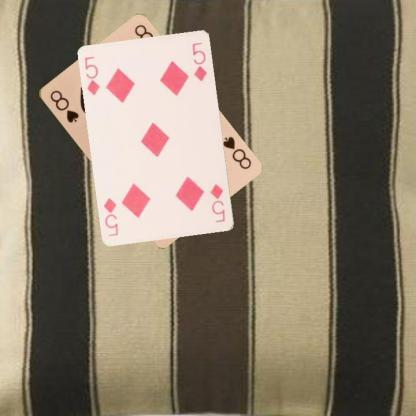5d: (82, 53, 102, 98), (208, 182, 226, 224)
8s: (47, 87, 80, 124), (219, 134, 252, 170)
